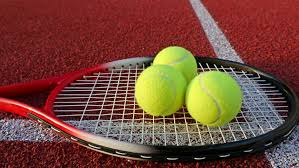tennis_ball: (185, 70, 243, 128), (132, 64, 189, 119), (153, 45, 199, 86)
